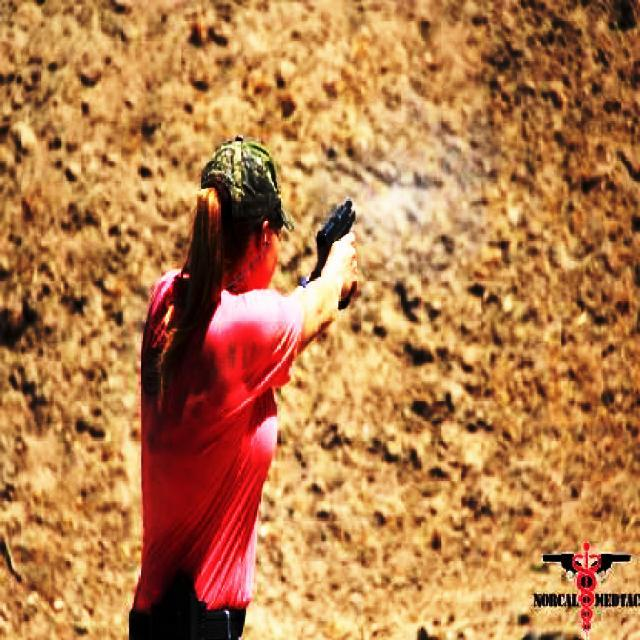Gun: (312, 195, 360, 283)
